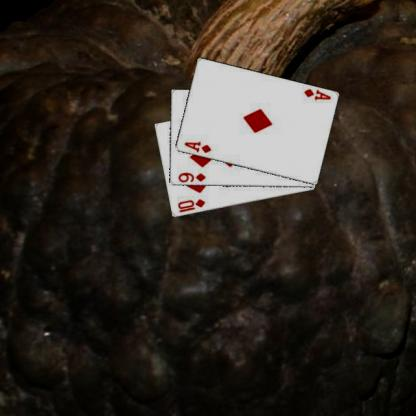10D: (175, 196, 206, 214)
9D: (175, 170, 207, 184)
AD: (301, 86, 332, 102), (181, 139, 212, 154)
